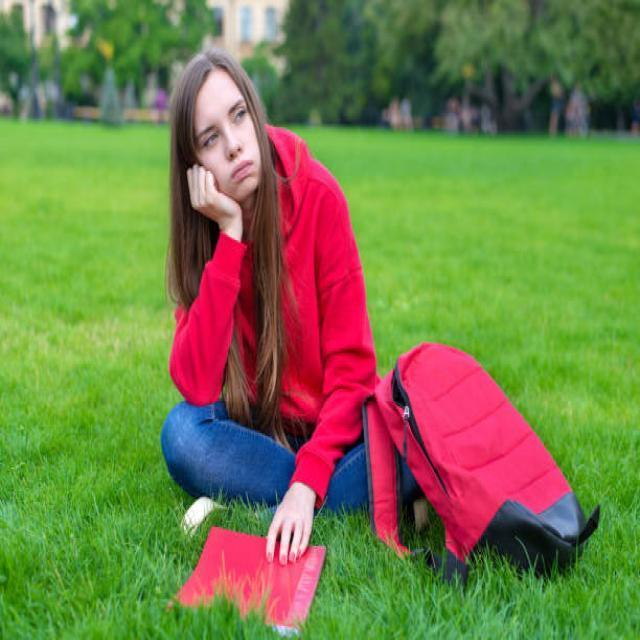Looking away: (194, 73, 262, 199)
